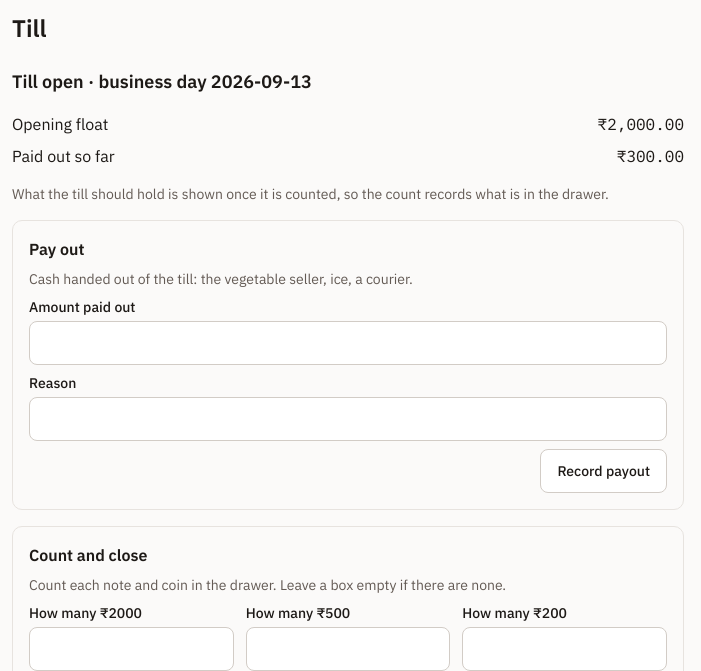
Test: CashScreen › records a payout with a reason, behind an idempotency key
In the field labelled "Amount paid out": coordinates (348, 343) [29,321,667,365], type "300"
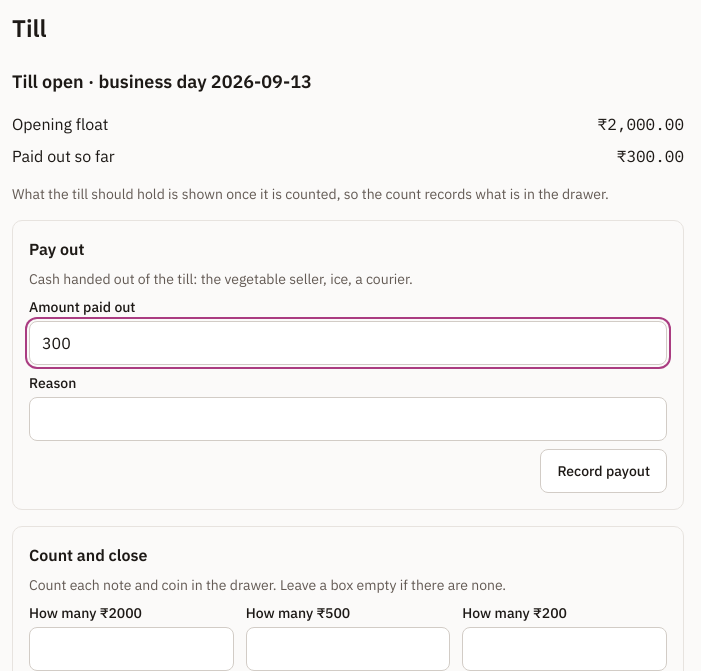
In the field labelled "Reason": coordinates (348, 419) [29,397,667,441], type "Vegetable seller"
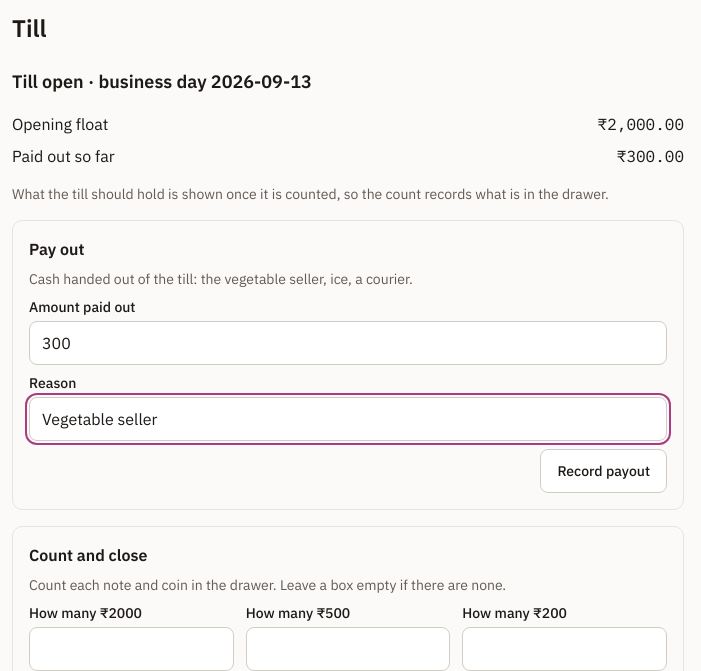
Click the button "Record payout": coordinates (604, 471) [540,449,667,493]
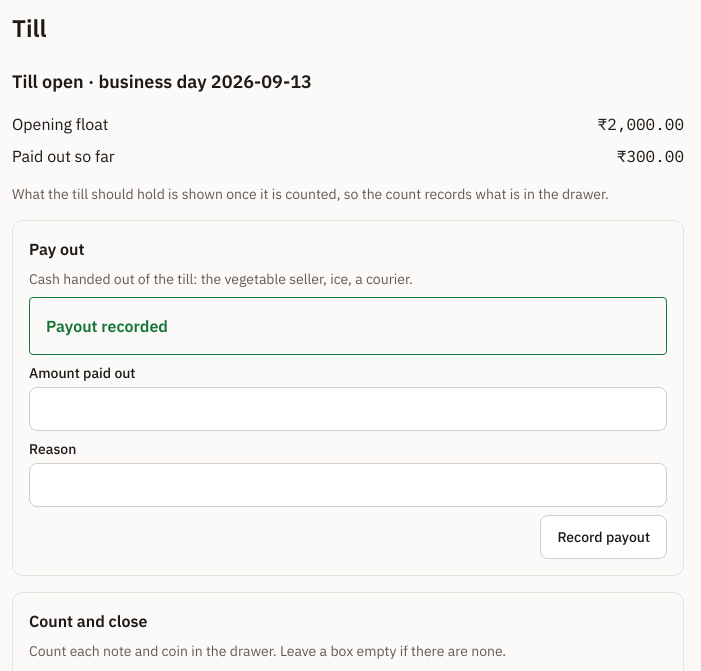
expect the text "Payout recorded" is shown: met, box [46,316,168,336]
